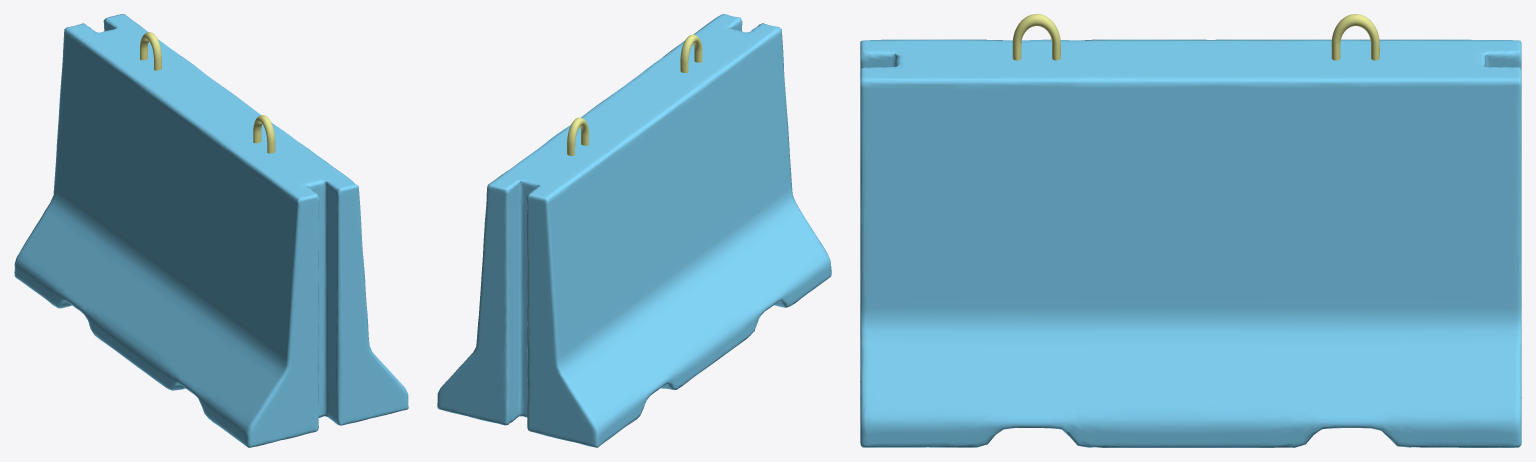
File: Concret_barrier_low.fbx
3 views of the same model, side by side, from view 1: azimuth 30°, elevation 25°; view 2: azimuth 150°, elevation 25°; view 3: azimuth 270°, elevation 25° (orthographic). The views are drawn at different scales.
Parts seen in each view (by area): view 1: Body_low, Ring_low; view 2: Body_low, Ring_low; view 3: Body_low, Ring_low.
Part boxes in pixels (<box>): Body_low: <box>14,14,408,447</box>; Ring_low: <box>140,32,275,153</box>; Body_low: <box>437,14,831,447</box>; Ring_low: <box>567,34,702,155</box>; Body_low: <box>860,39,1521,447</box>; Ring_low: <box>1012,14,1379,60</box>.
Size of the model in its own units: 0.2296 by 0.3656 by 0.5809.
